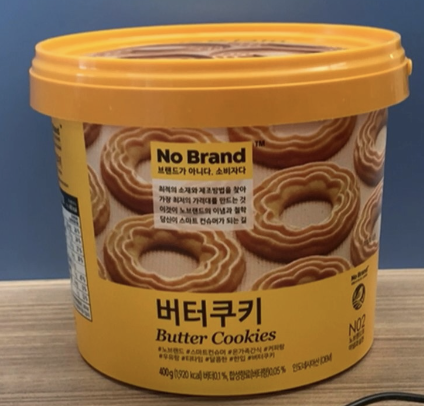cookies_400g-499g: (84, 117, 370, 366)
